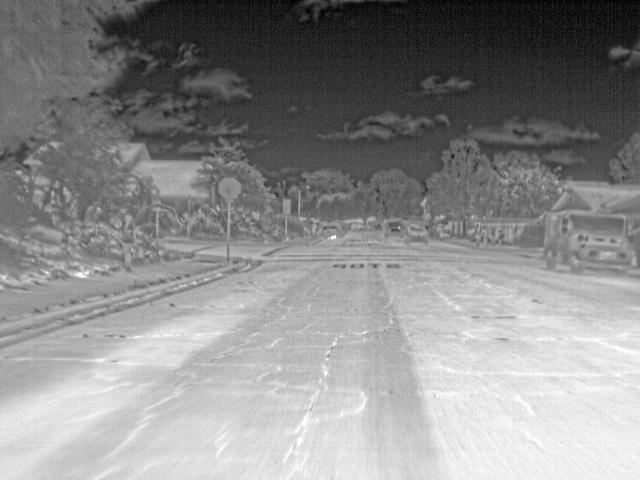car: (403, 222, 429, 246), (384, 219, 404, 240), (320, 223, 343, 238)
person: (120, 212, 138, 273), (473, 222, 483, 248)
